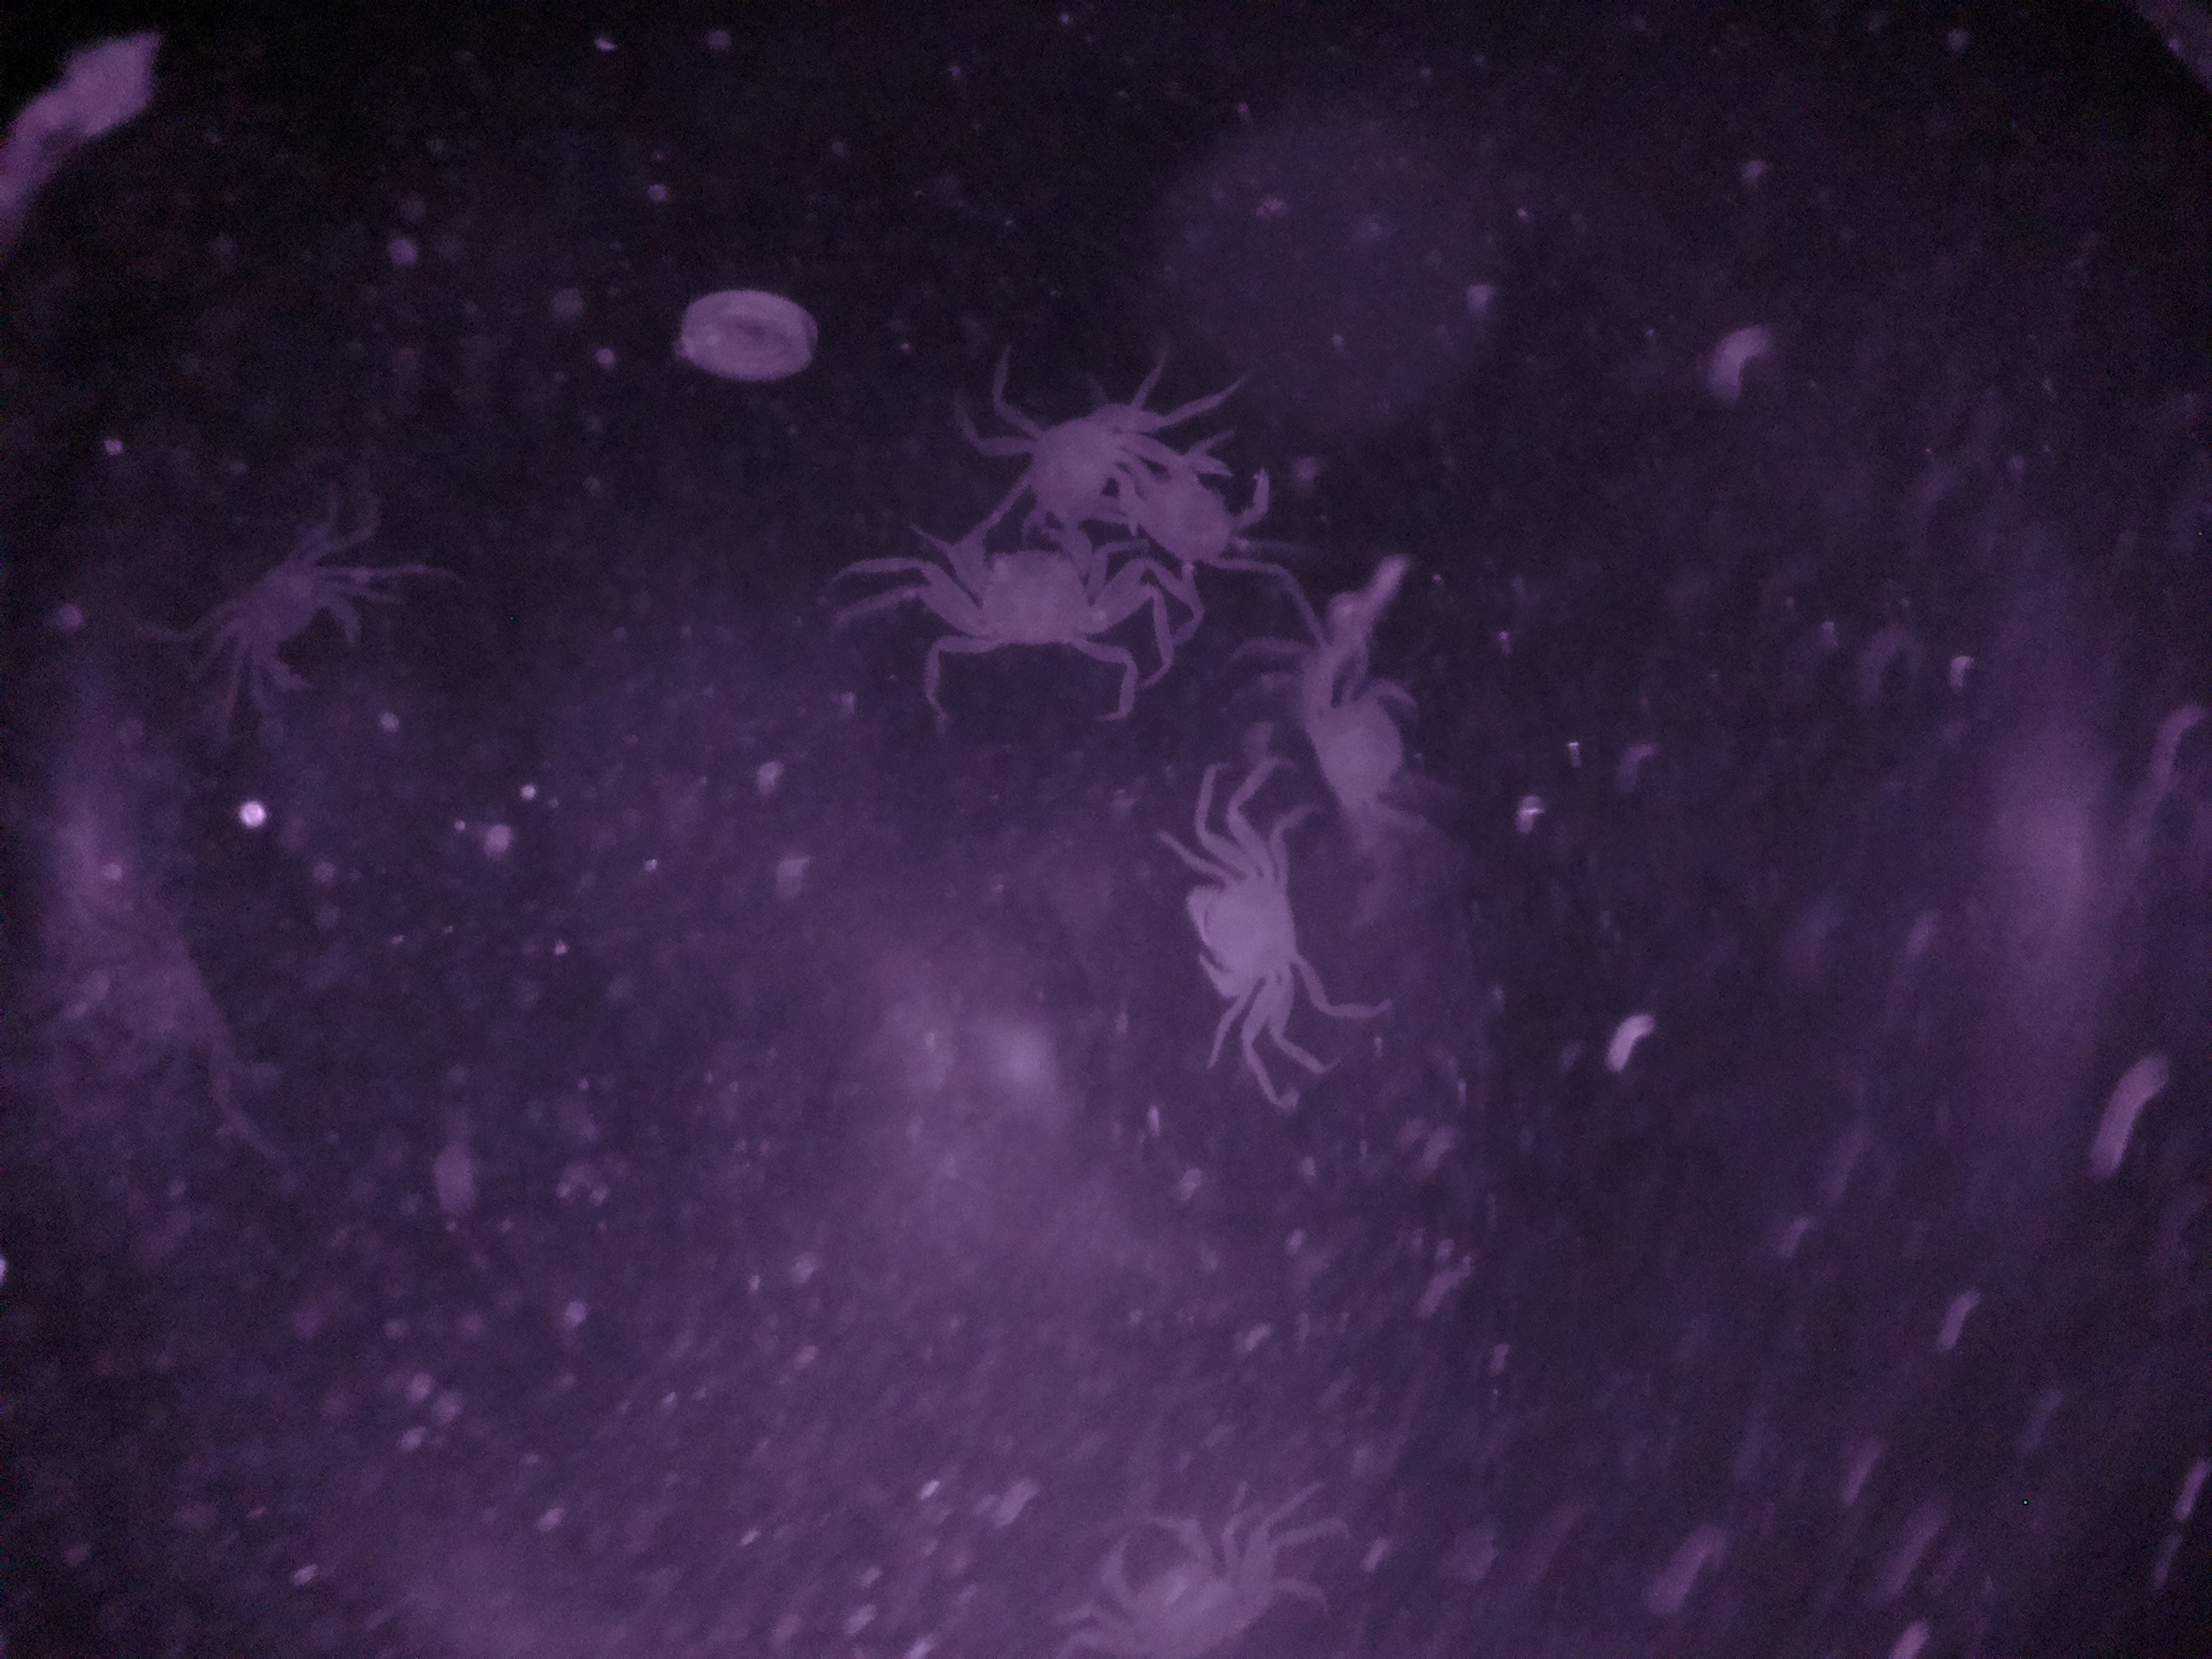Crab: (894, 521, 1144, 695), (1155, 821, 1325, 1046)
